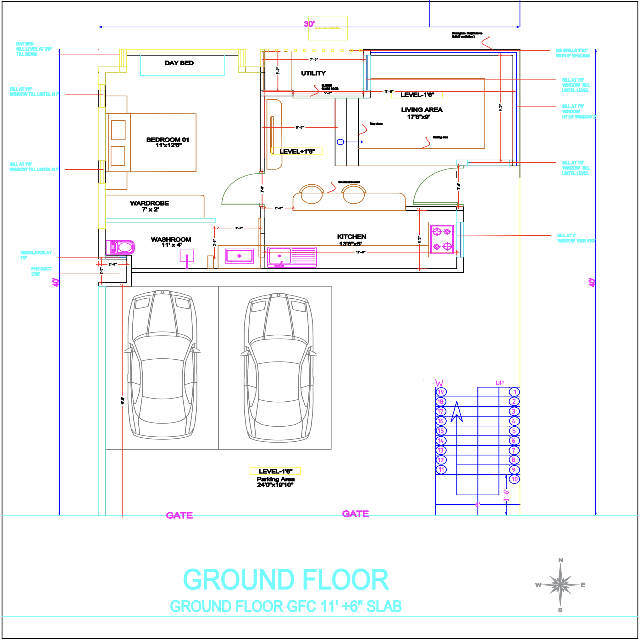door: (413, 163, 463, 206), (220, 171, 265, 208)
